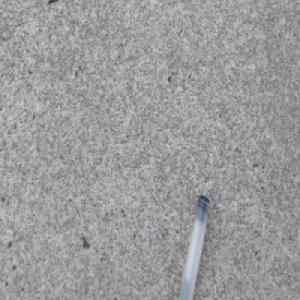Pen: (177, 193, 211, 300)
